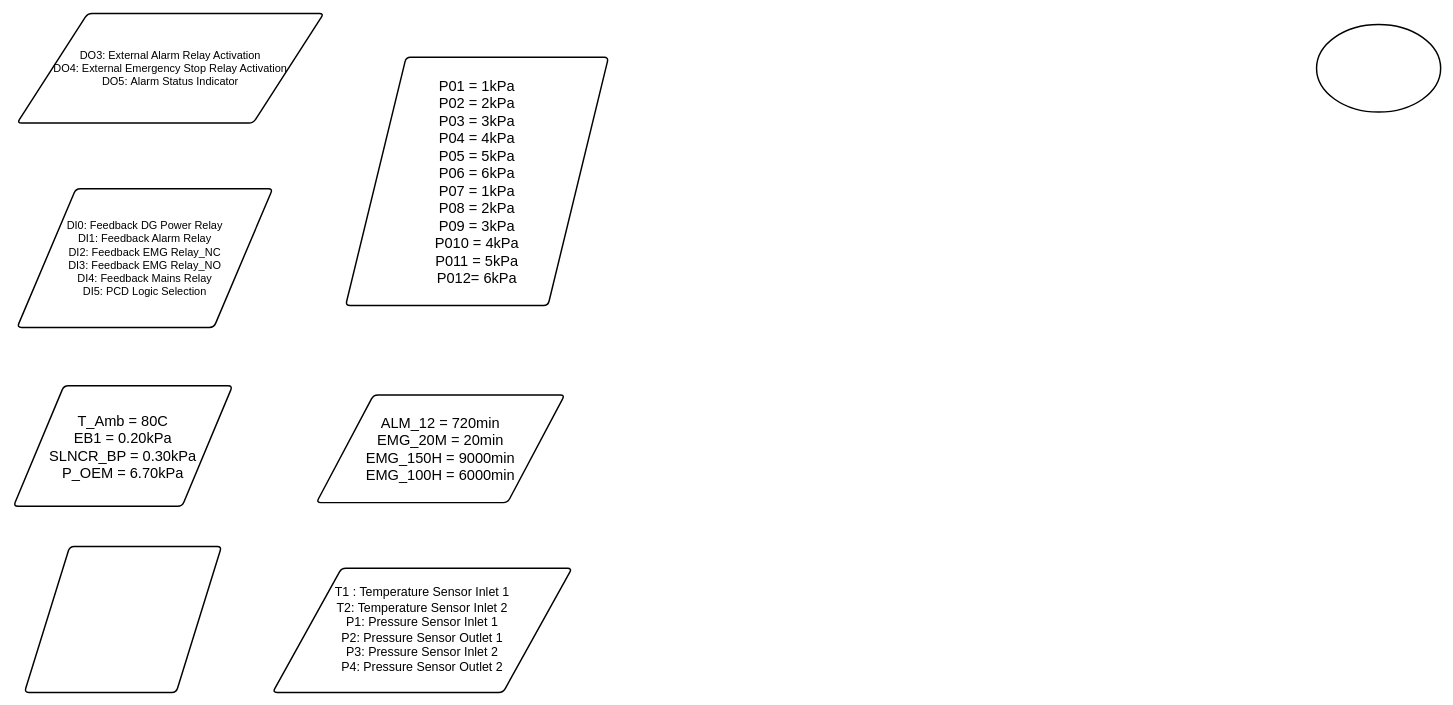
Image size: 1453x705. Some labels were removed from this diagram. Each missing label, with the centre of its shape:
"Start" goes at (1378,67).
"T01 = 100C T02 = 200C T03 = 300C T04 = 400C T05 = 500C T06 = 600C T07 = 700C" goes at (122,619).
